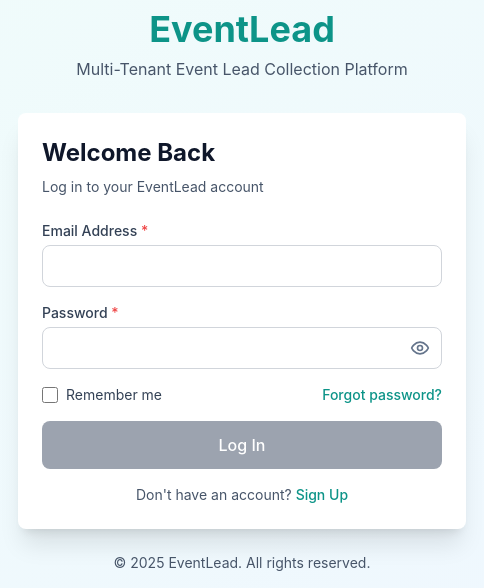
Test: LoginForm Component › Form Submission › should show loading state during submission
Type "test@example.com" into the field labelled "Email Address *" at (242, 266), box [42, 245, 442, 287]
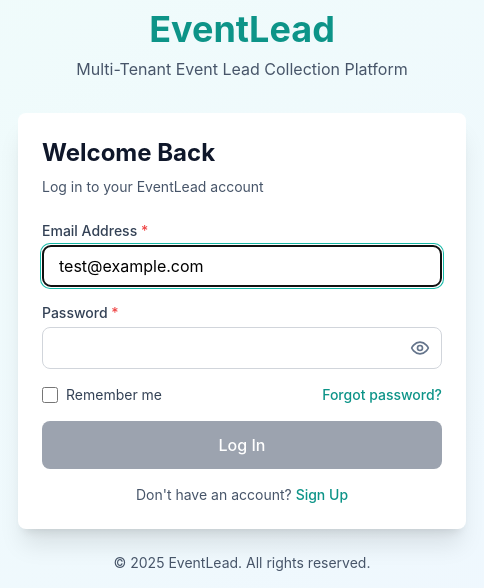
Type "Password123!" into the password field labelled "Password *" at (242, 348), box [42, 327, 442, 369]
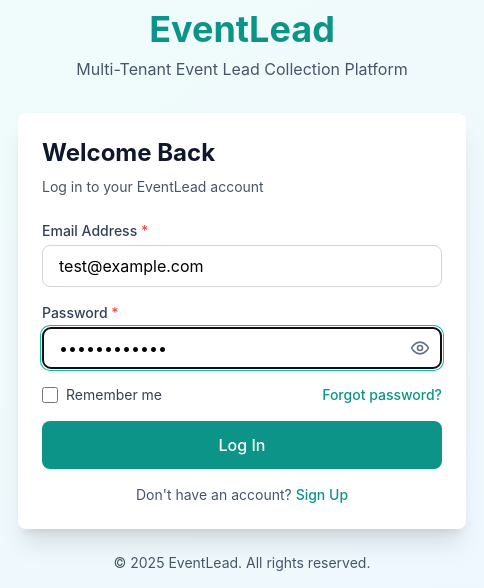
Click the button "Log In" at (242, 445), box [42, 421, 442, 469]
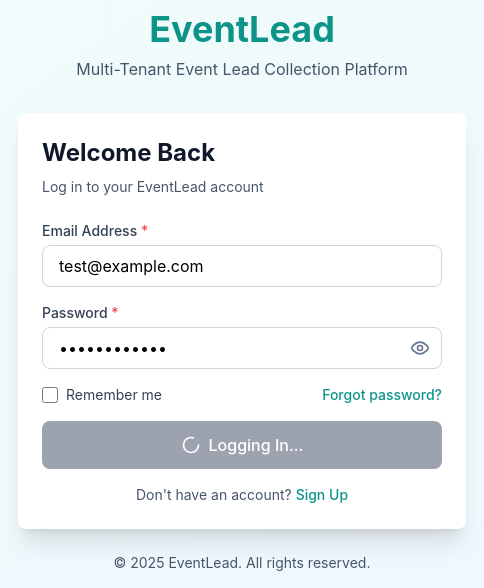
Check: the button "Logging In..." is disabled, box [42, 421, 442, 469]
